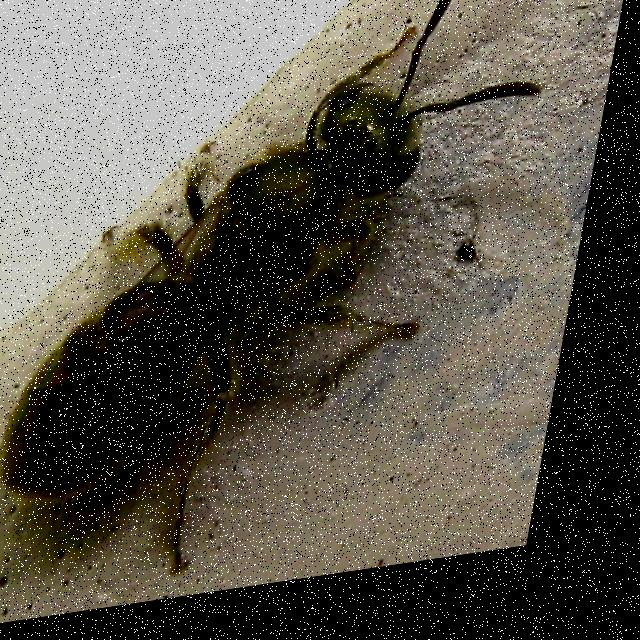Lasioglossum: (0, 0, 538, 570)
